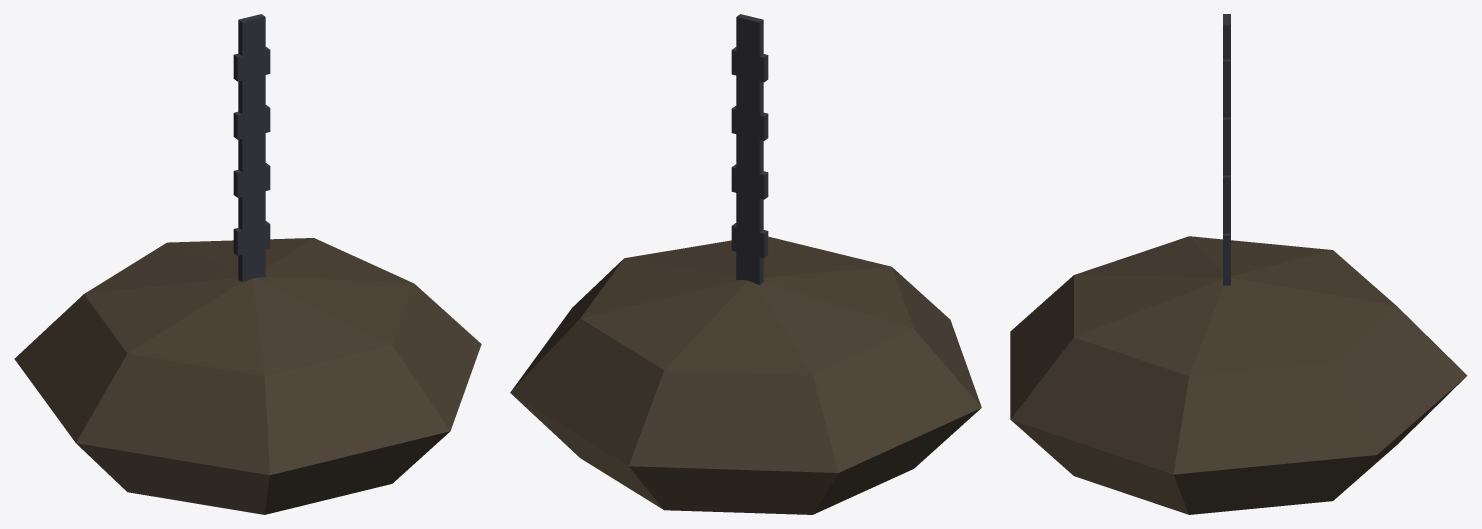
File: s3_chain_root.glb
3 views of the same model, side by side, from view 1: azimuth 30°, elevation 25°; view 2: azimuth 150°, elevation 25°; view 3: azimuth 270°, elevation 25° (orthographic).
Parts seen in each view (by area): view 1: s3_chain_root; view 2: s3_chain_root; view 3: s3_chain_root.
Boxes of the visible parts, x1,y1,x2,y2 form: s3_chain_root: [14, 14, 481, 514]; s3_chain_root: [510, 14, 981, 514]; s3_chain_root: [1010, 14, 1467, 514].
Bounding box in the file's own units: 1.75 × 1.88 × 1.71.
